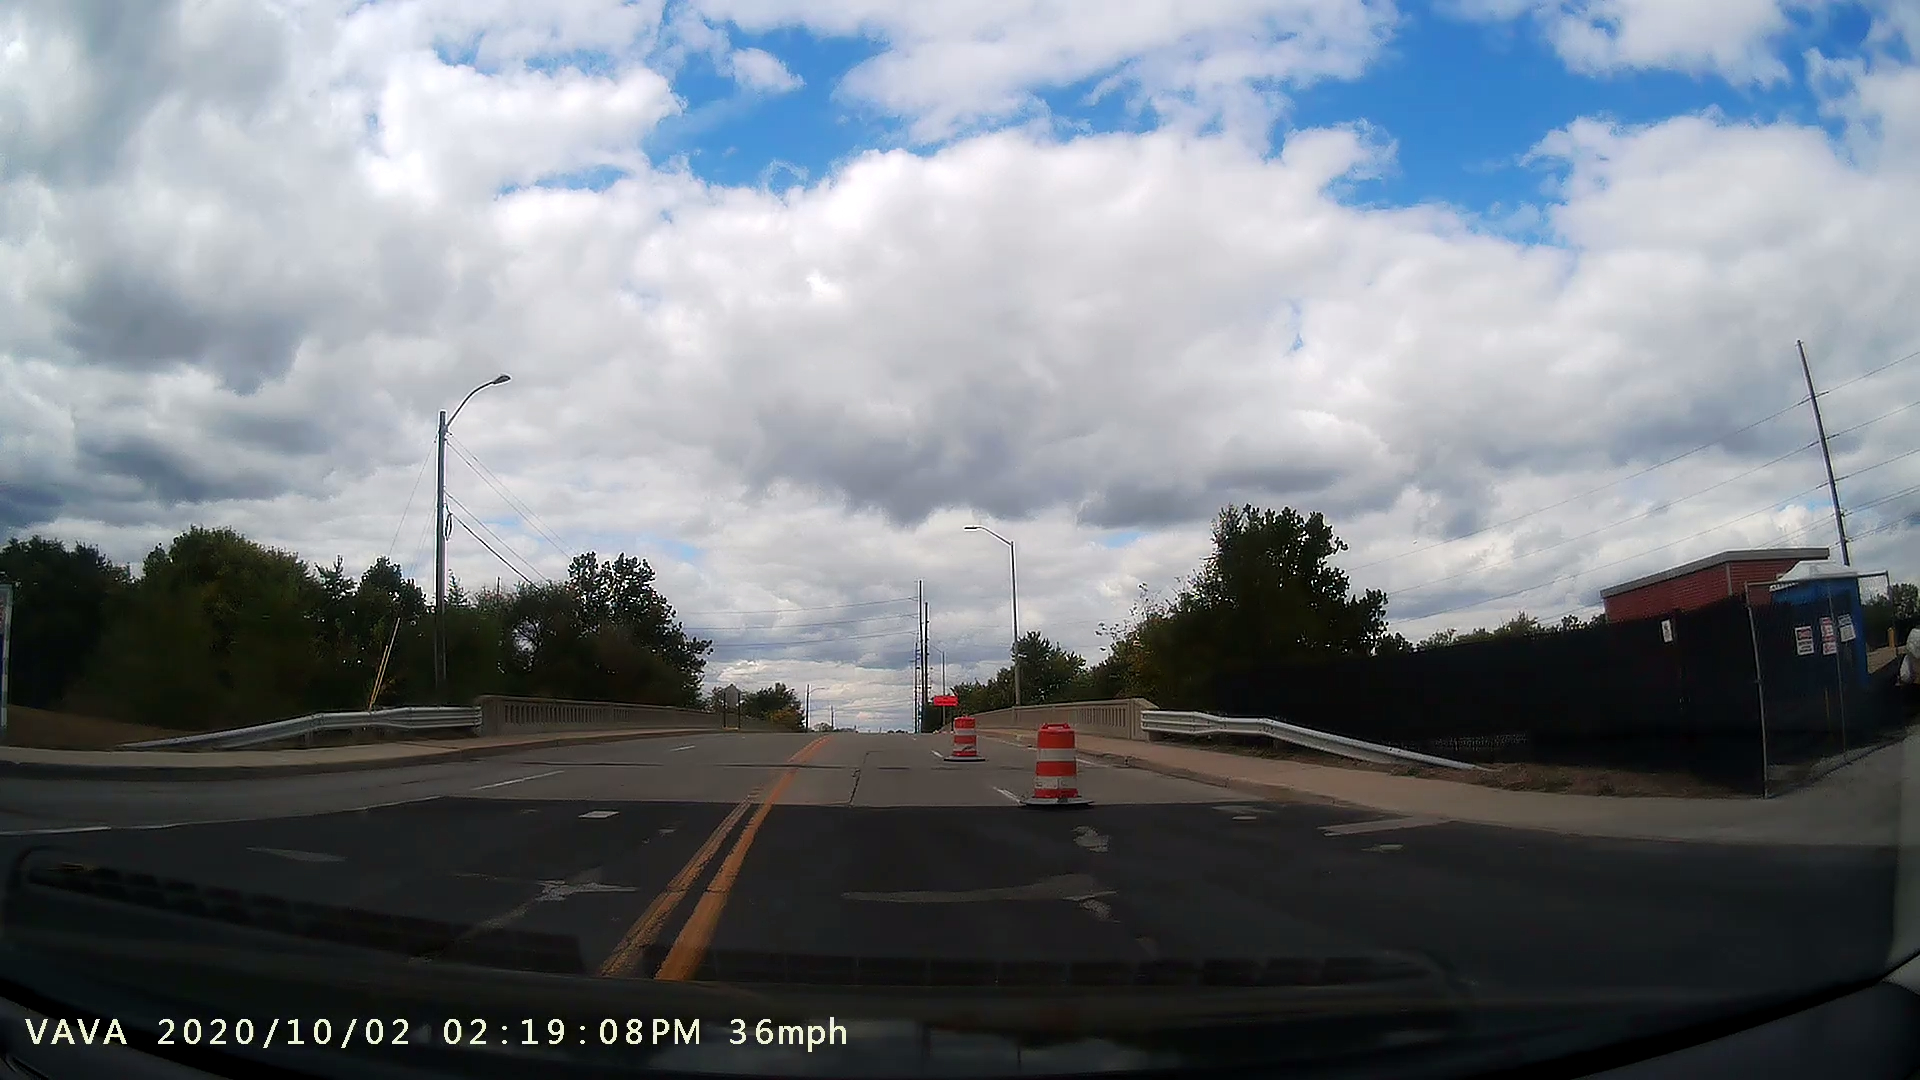const_barrel: (1021, 705, 1097, 804), (938, 699, 992, 766)
